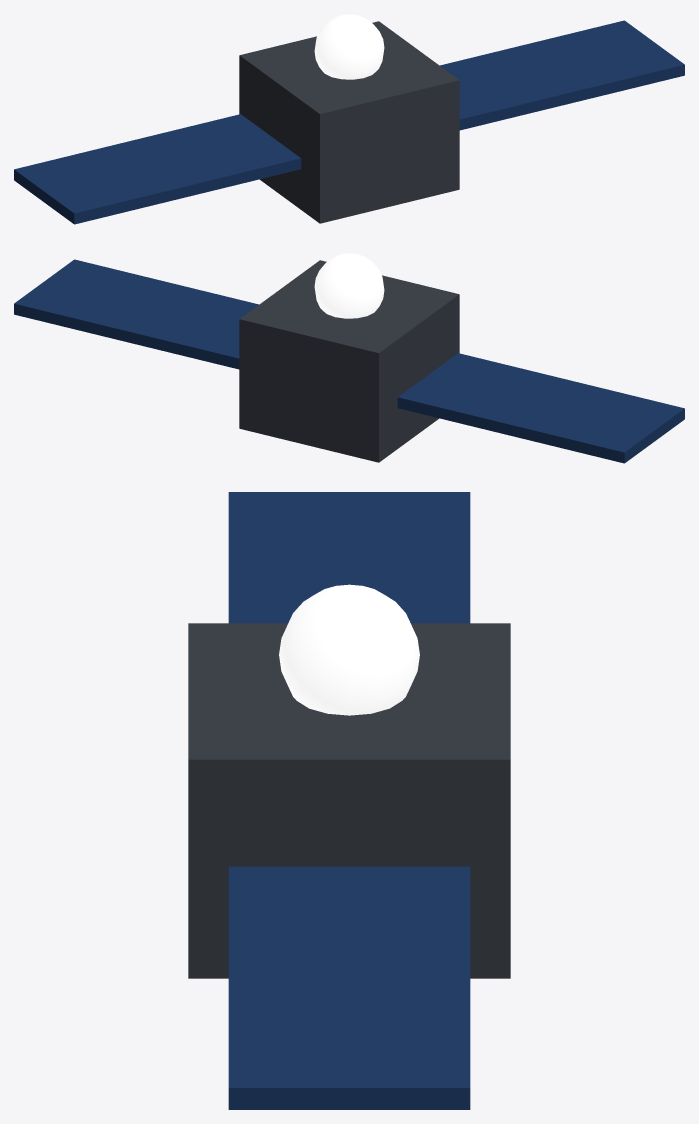
Rendered from drone.glb.
The picture shows the model from 3 angles, top to bottom: view 1: azimuth 30°, elevation 25°; view 2: azimuth 150°, elevation 25°; view 3: azimuth 270°, elevation 25°; orthographic projection. The views are drawn at different scales.
Parts seen in each view (by area): view 1: Body, PanelL, PanelR, Beacon; view 2: Body, PanelL, PanelR, Beacon; view 3: Body, PanelR, PanelL, Beacon.
Boxes of the visible parts, left/top/right/bottom form: Body: left=239, top=21, right=459, bottom=223; PanelL: left=14, top=114, right=301, bottom=224; PanelR: left=440, top=20, right=684, bottom=130; Beacon: left=314, top=14, right=384, bottom=79; Body: left=239, top=260, right=459, bottom=462; PanelL: left=397, top=353, right=684, bottom=463; PanelR: left=14, top=259, right=258, bottom=369; Beacon: left=314, top=253, right=384, bottom=318; Body: left=188, top=623, right=510, bottom=978; PanelR: left=228, top=866, right=470, bottom=1109; PanelL: left=228, top=492, right=470, bottom=623; Beacon: left=279, top=584, right=419, bottom=715.
Bounding box in the file's own units: 0.7 × 0.175 × 0.16.
